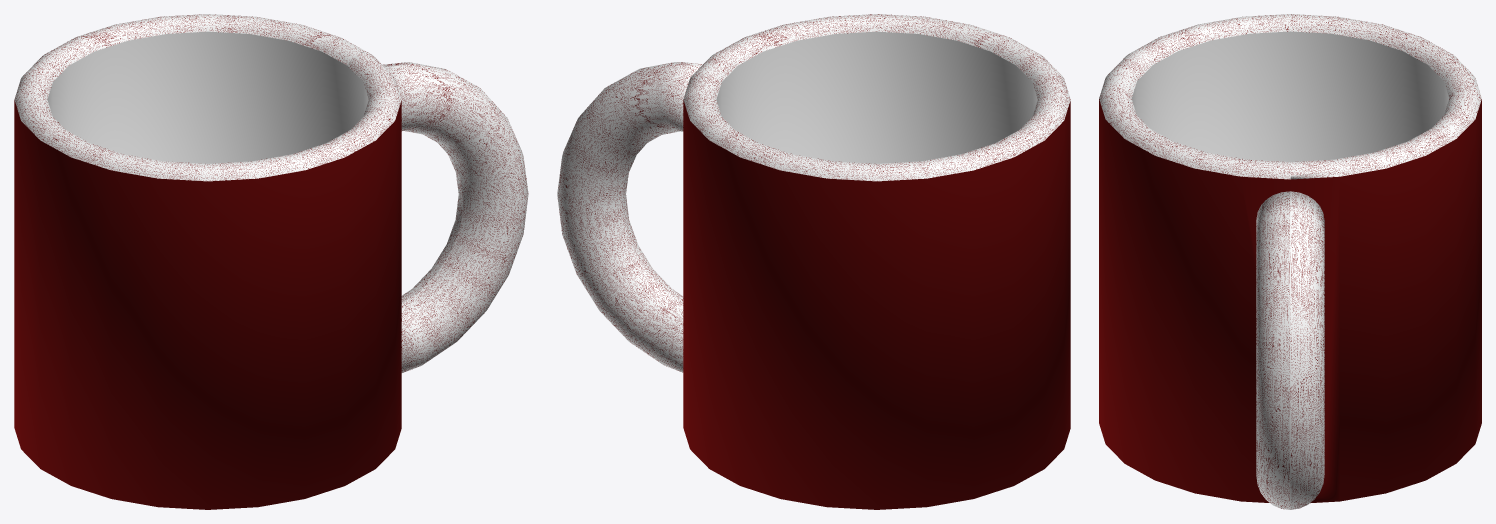
3 renders of one model, left to right at view 1: azimuth 30°, elevation 25°; view 2: azimuth 150°, elevation 25°; view 3: azimuth 270°, elevation 25°, orthographic.
Parts seen in each view (by area): view 1: SketchUp (×4); view 2: SketchUp (×4); view 3: SketchUp (×4).
Boxes of the visible parts, x1=… form: SketchUp (×4): x1=14, y1=14, x2=528, y2=509; SketchUp (×4): x1=557, y1=14, x2=1070, y2=509; SketchUp (×4): x1=1099, y1=14, x2=1481, y2=509.
Size of the model in its own units: 7.02 by 4.88 by 4.69.
